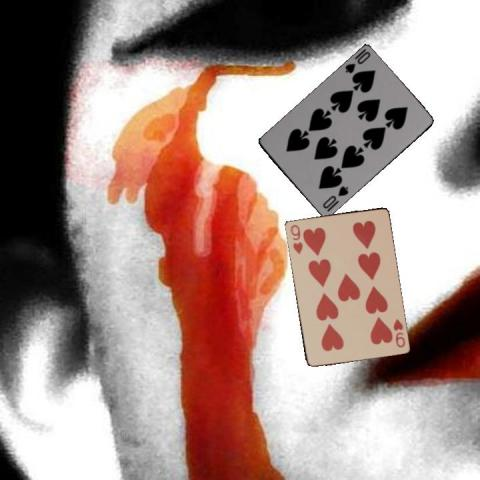10s: (319, 183, 350, 211), (342, 49, 372, 75)
9h: (287, 222, 304, 256), (390, 315, 406, 349)
